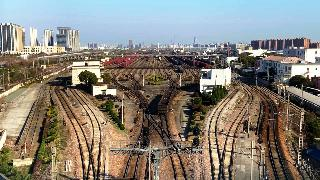train: (158, 87, 176, 114)
